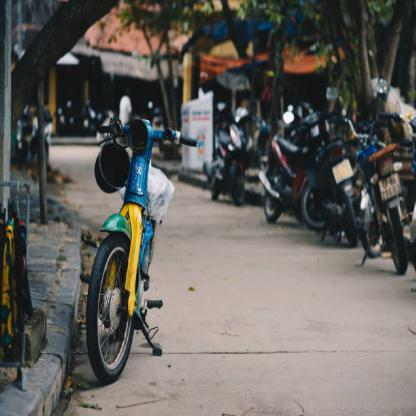Motorcycle: (81, 102, 176, 388)
